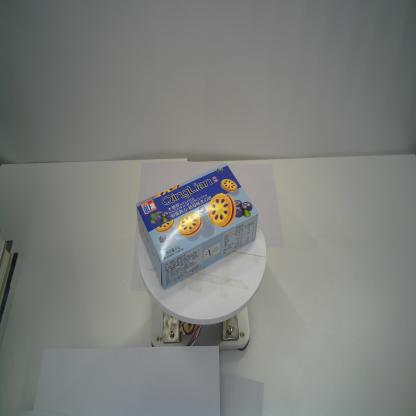Dessert: (135, 161, 260, 291)
